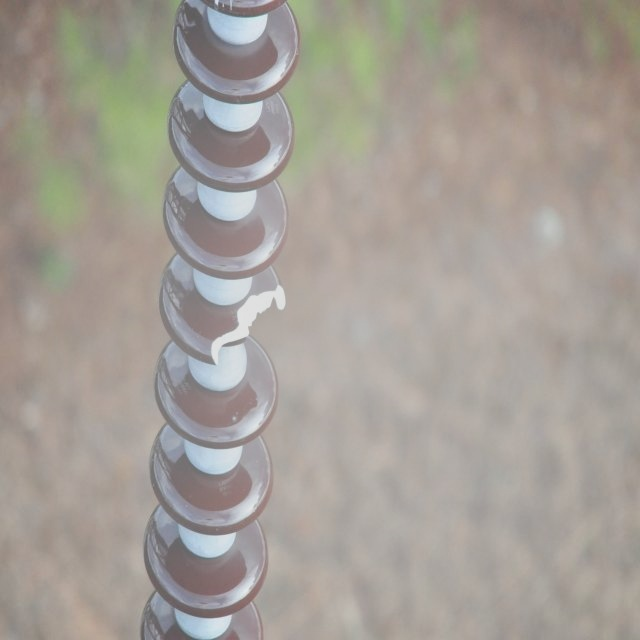broken: (208, 280, 286, 367)
insulator: (138, 0, 300, 638)
